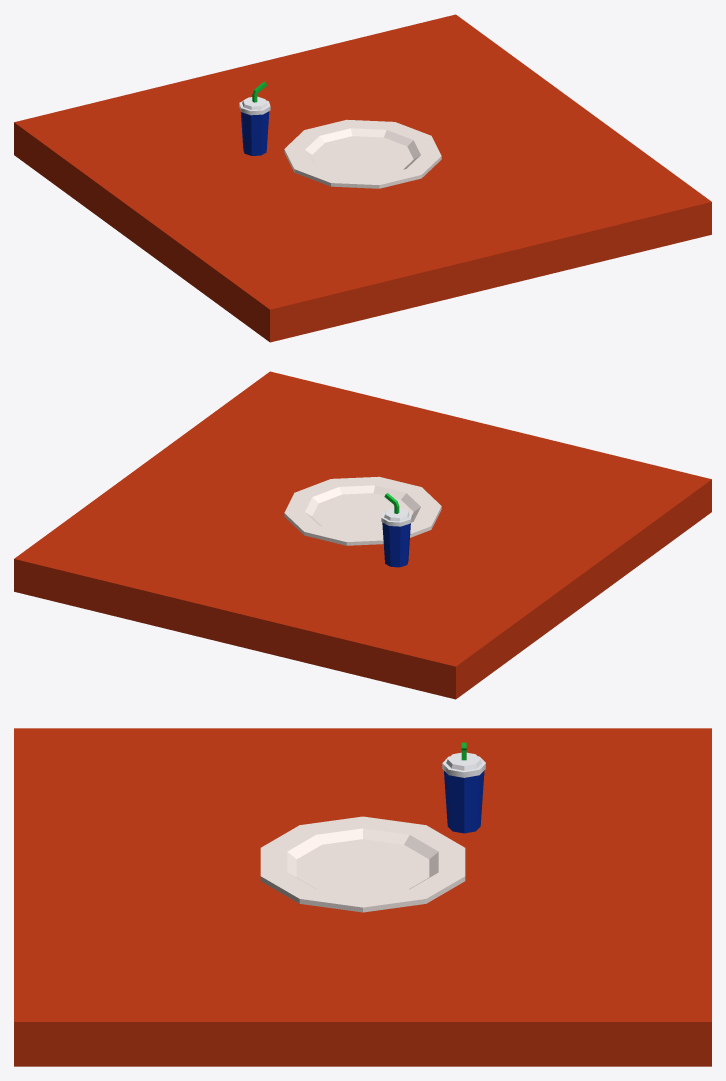
The model's file is Table.FBX.
3 renders of one model, top to bottom at view 1: azimuth 30°, elevation 25°; view 2: azimuth 150°, elevation 25°; view 3: azimuth 270°, elevation 25°, orthographic. The views are drawn at different scales.
Parts seen in each view (by area): view 1: Box006; view 2: Box006; view 3: Box006.
Part boxes in pixels (x1,y1,x2,y2): Box006: (14,14,711,342); Box006: (14,371,711,699); Box006: (14,728,711,1066).
Size of the model in its own units: 214 by 46.39 by 214.
